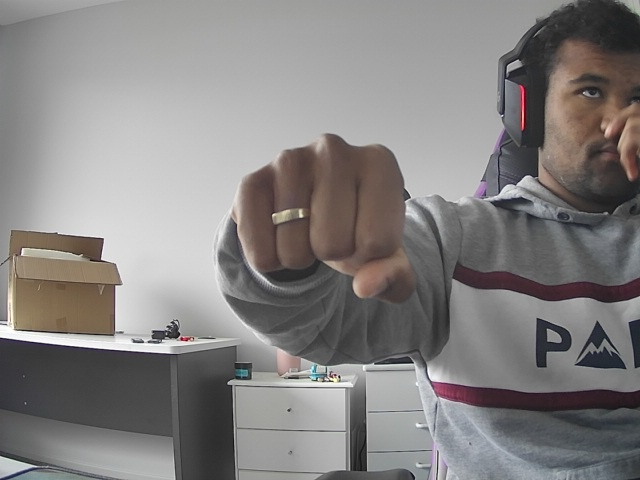Yes: (213, 119, 435, 323)
